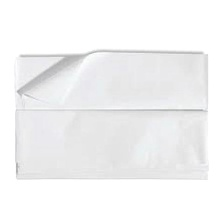tissue: (8, 43, 217, 187)
